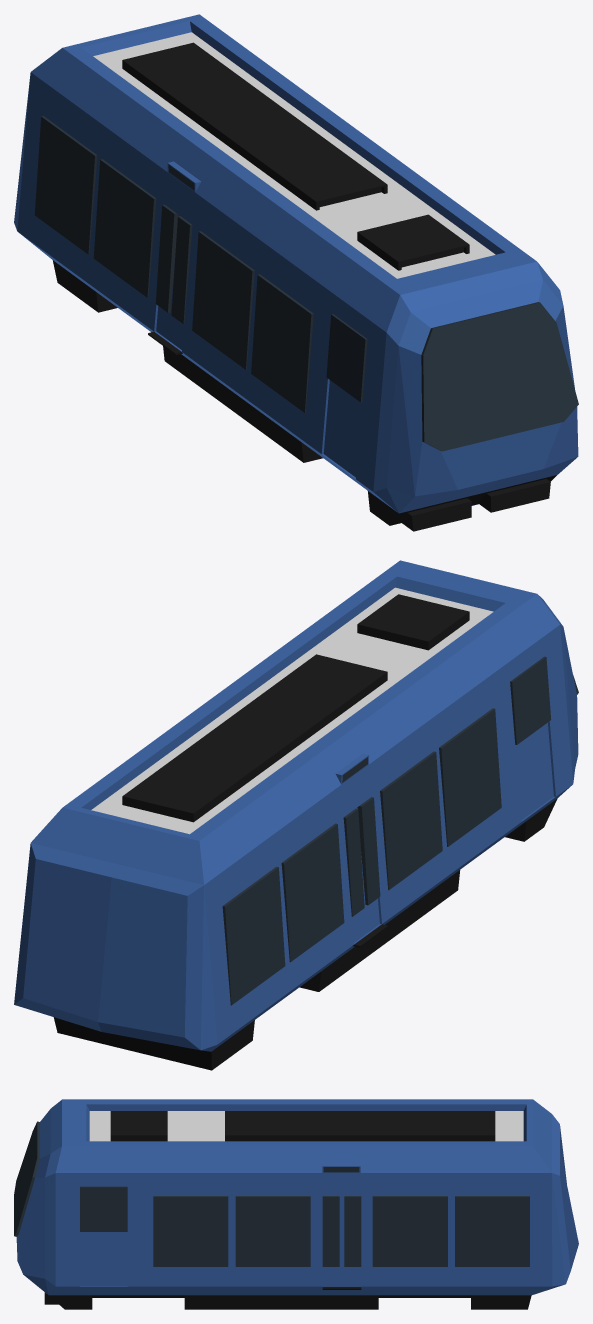
Rendered from qt.train.glb.
3 views of the same model, one above another, from view 1: azimuth 30°, elevation 25°; view 2: azimuth 150°, elevation 25°; view 3: azimuth 270°, elevation 25° (orthographic). The views are drawn at different scales.
Parts seen in each view (by area): view 1: Train_Cube.001; view 2: Train_Cube.001; view 3: Train_Cube.001.
Boxes of the visible parts, left/top/right/bottom form: Train_Cube.001: left=14, top=14, right=578, bottom=531; Train_Cube.001: left=14, top=560, right=578, bottom=1070; Train_Cube.001: left=14, top=1099, right=578, bottom=1309.
Size of the model in its own units: 6.06 by 6.27 by 20.
